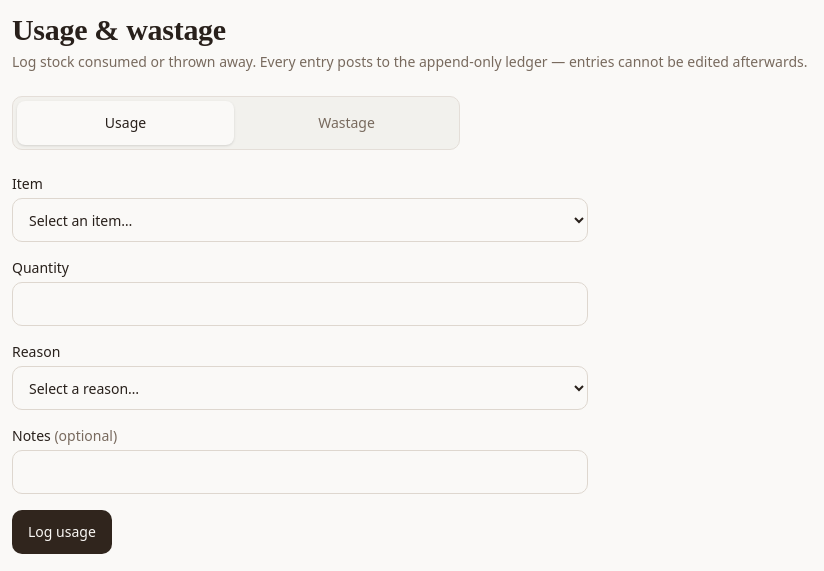
WastagePage › switches reason codes when toggling to wastage
Click the button "Wastage" at (346, 123), box [238,101,455,145]
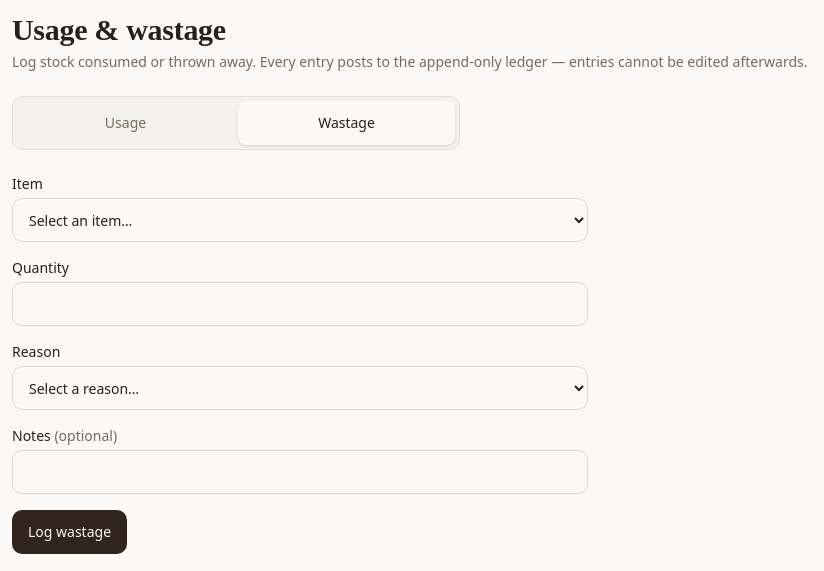
Expected: the button "Log wastage" is shown, [12,510,127,554]
